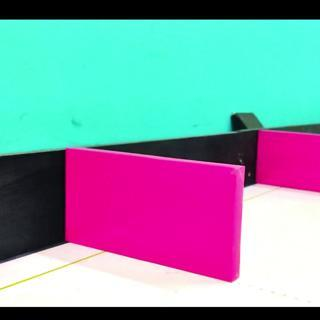xparking: (73, 174, 237, 274), (265, 138, 316, 185)
